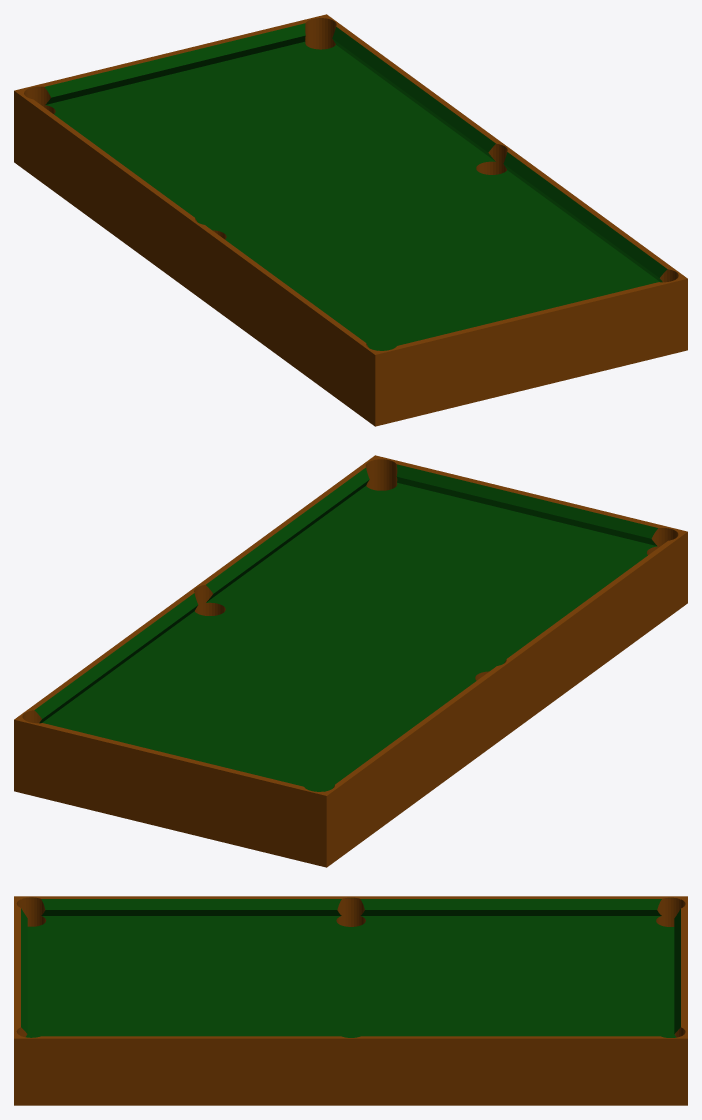
The model's file is PoolTable.glb.
3 views of the same model, one above another, from view 1: azimuth 30°, elevation 25°; view 2: azimuth 150°, elevation 25°; view 3: azimuth 270°, elevation 25° (orthographic). The views are drawn at different scales.
Parts seen in each view (by area): view 1: Cube; view 2: Cube; view 3: Cube.
Part boxes in pixels (left/top/right/bottom): Cube: left=14, top=14, right=687, bottom=426; Cube: left=14, top=455, right=687, bottom=867; Cube: left=14, top=896, right=687, bottom=1105.
Size of the model in its own units: 1.37 by 0.3 by 2.74.
